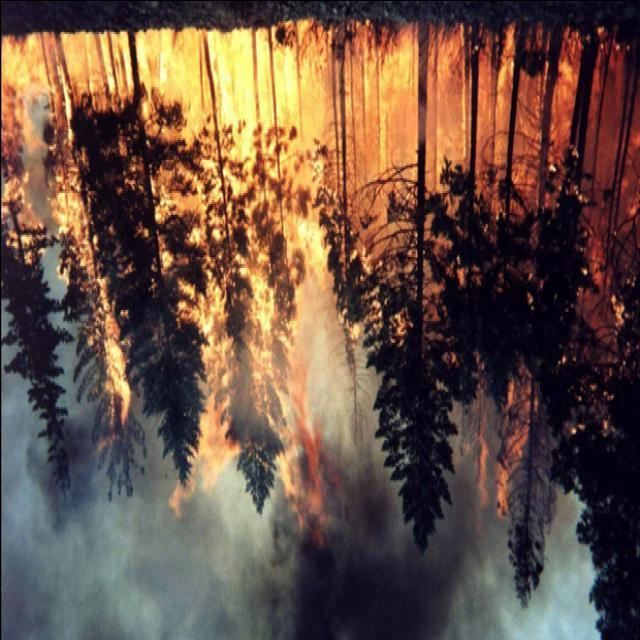Fire: (0, 23, 605, 540)
